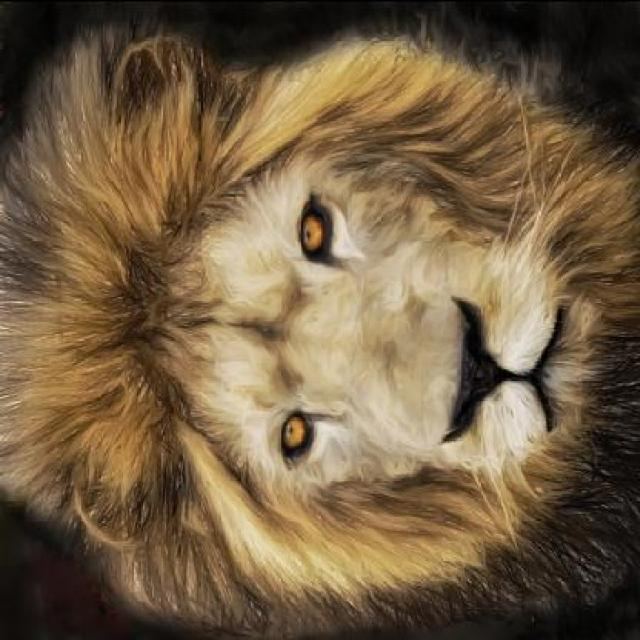Lion: (16, 16, 638, 638)
